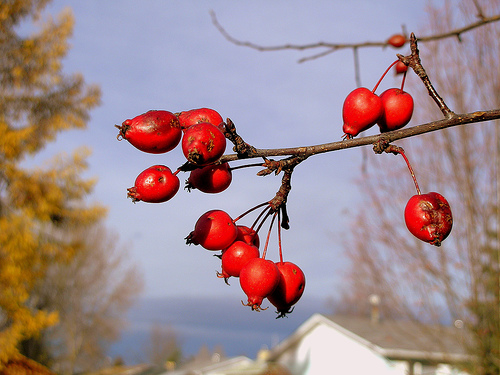apple: (339, 85, 385, 139), (239, 257, 281, 314), (185, 208, 239, 252), (126, 162, 183, 203)
